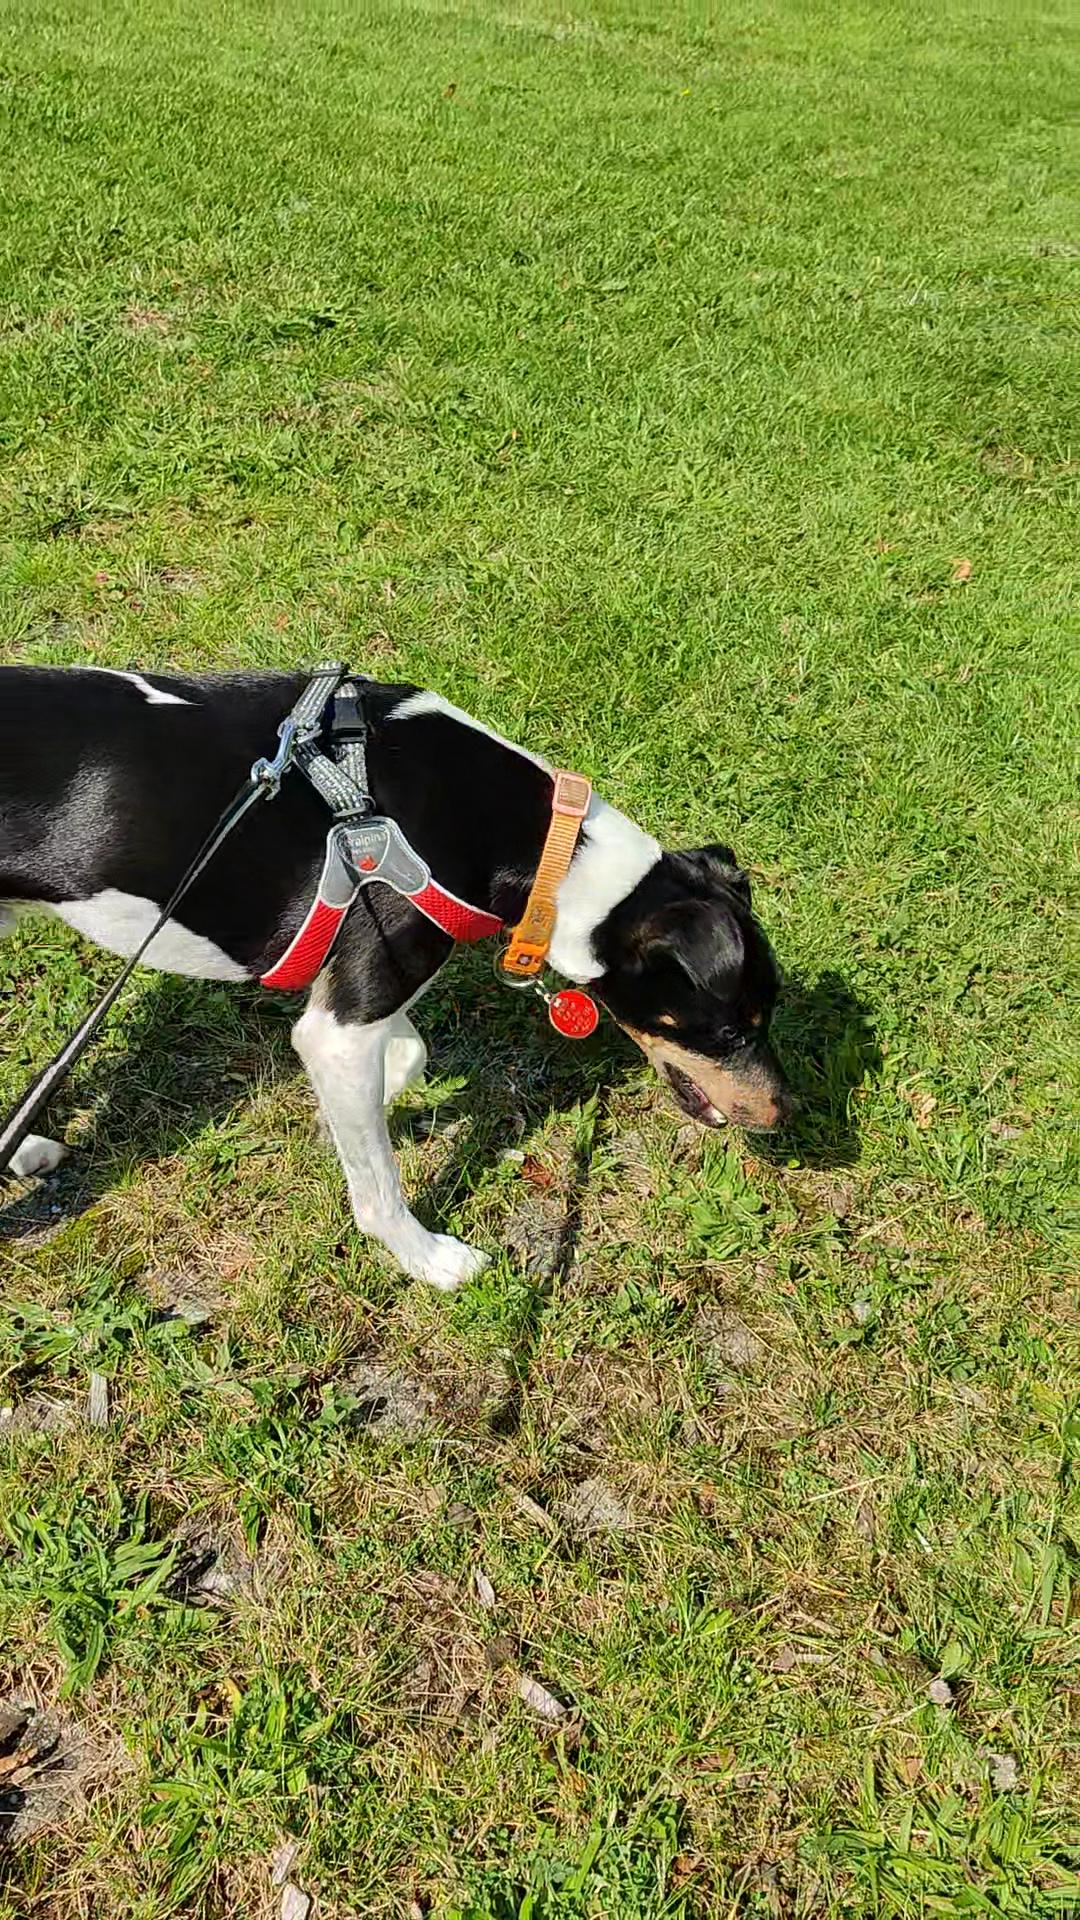Dog: (0, 596, 832, 1320)
